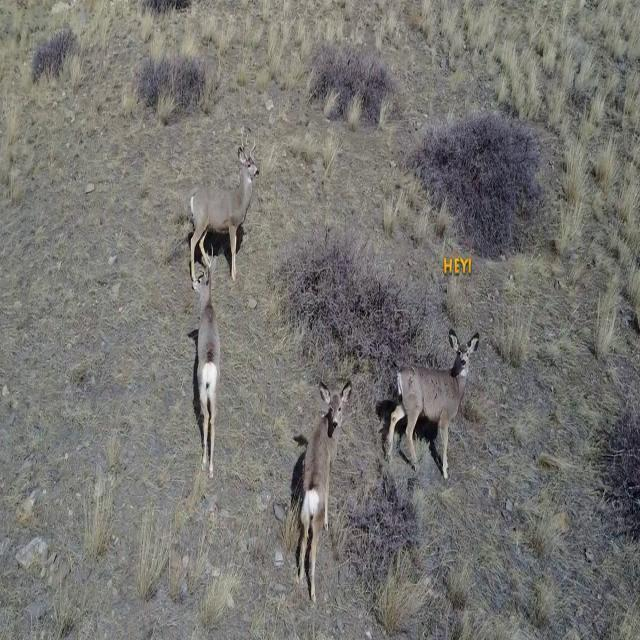Deer: (384, 330, 478, 477), (296, 375, 348, 601), (184, 127, 259, 279), (189, 249, 225, 478)
